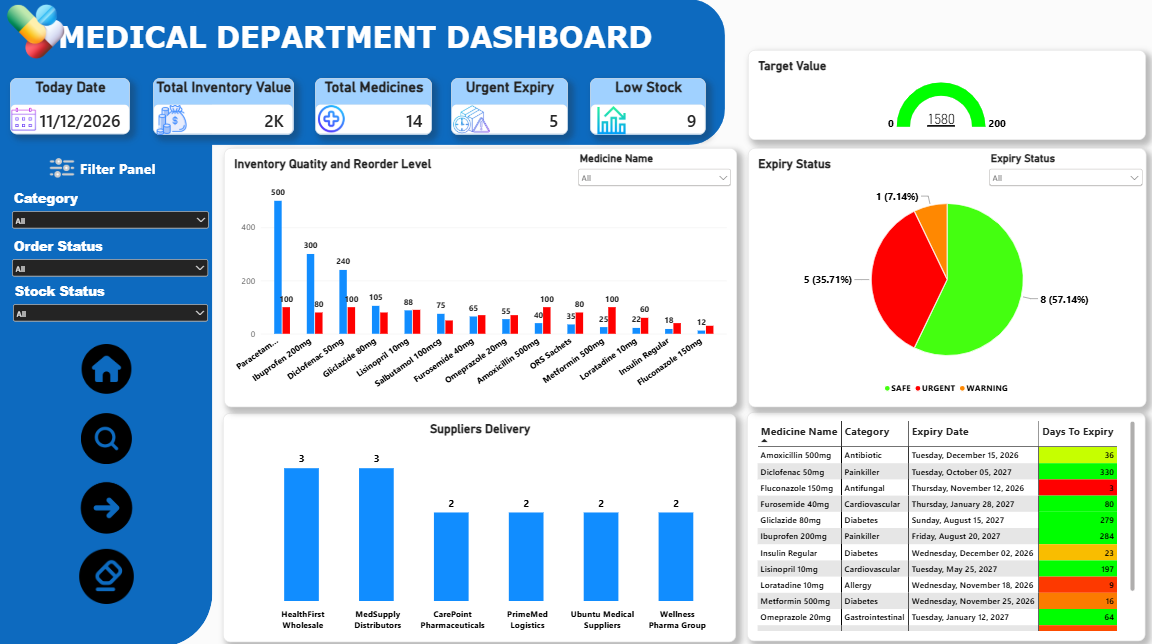

The page's visual inventory and layout, read from the dashboard file:
{"tool":"powerbi","page":{"name":"Medical Dep ","canvas":[1920,1080],"ordinal":0},"visuals":[{"type":"shape","box":[0,0,1208.3,243.3],"z":0},{"type":"shape","box":[0,0,354,1080],"z":1000},{"type":"textbox","title":"grtrtty","box":[96.6,33.5,1001.2,86.7],"z":2000},{"type":"pieChart","title":"Expiry Status","fields":{"Category":["Stock_Expiry_Table.expiry_status"],"Y":["CountNonNull(Inventory_Table.medicine_name)"]},"box":[1246.6,248.1,664.2,431.6],"z":3000,"group":"g1"},{"type":"slicer","fields":{"Values":["Inventory_Table.category"]},"box":[15,317.4,338.3,80],"z":3000},{"type":"clusteredColumnChart","title":"Inventory Quatity and Reorder Level","fields":{"Category":["Inventory_Table.medicine_name"],"Y":["Sum(Inventory_Table.Inventory Quatity)","Sum(Inventory_Table.reorder_level)"]},"box":[373.6,248.1,855.3,431.6],"z":4000,"group":"g2"},{"type":"clusteredColumnChart","title":"Suppliers Delivery","fields":{"Category":["Inventory_Table.supplier_name"],"Y":["CountNonNull(Inventory_Table.medicine_name)"]},"box":[372.5,689.8,855.3,382.3],"z":4000},{"type":"gauge","title":"Target Value","fields":{"MaxValue":["Inventory_Table.Target Value"],"MinValue":["Inventory_Table.Minimum Value"],"Y":["Sum(Inventory_Table.Inventory Quatity)"]},"box":[1246.2,84.9,662.8,149.9],"z":5000},{"type":"slicer","fields":{"Values":["Stock_Expiry_Table.expiry_status"]},"box":[1642.7,254.2,266,72],"z":5000,"group":"g1"},{"type":"slicer","fields":{"Values":["Inventory_Table.medicine_name"]},"box":[958.3,254.1,265.5,72.2],"z":6000,"group":"g2"},{"type":"tableEx","fields":{"Values":["Inventory_Table.medicine_name","Inventory_Table.category","Inventory_Table.expiry_date","Sum(Stock_Expiry_Table.days_to_expiry)"]},"box":[1244.8,688.8,664,382],"z":6000},{"type":"slicer","fields":{"Values":["Inventory_Table.order_status"]},"box":[15,397.4,336.7,75],"z":7000},{"type":"cardVisual","title":"Today Date","fields":{"Data":["Inventory_Table.Today Date"]},"box":[16,132,200,94],"z":8000},{"type":"cardVisual","title":"Total Inventory Value","fields":{"Data":["Inventory_Table.Total Inventory Value"]},"box":[254.2,132,234.5,94.6],"z":9000},{"type":"cardVisual","title":"Total Medicines","fields":{"Data":["Inventory_Table.Total Medicines"]},"box":[524.2,132,195.1,94.6],"z":10000},{"type":"cardVisual","title":"Urgent Expiry","fields":{"Data":["Inventory_Table.Urgent Expiry"]},"box":[750.9,132,195.1,94.6],"z":11000},{"type":"cardVisual","title":"Low Stock","fields":{"Data":["Inventory_Table.Low Stock"]},"box":[983.4,132,193.1,94.6],"z":12000},{"type":"slicer","fields":{"Values":["Stock_Reorder_Table.stock_status"]},"box":[16.7,472.4,335,76.7],"z":13000},{"type":"image","box":[0,6.7,118.3,95],"z":14000},{"type":"textbox","box":[133.3,265,140,33.3],"z":15000},{"type":"image","box":[73.3,260,60,43.3],"z":16000},{"type":"image","box":[124.6,574.3,104.7,83.1],"z":17000},{"type":"image","box":[124.6,689.9,104.7,84.9],"z":18000},{"type":"image","box":[124.6,796.5,104.7,102.9],"z":19000},{"type":"image","box":[18,174,42,54],"z":20000},{"type":"image","box":[255.6,176.7,61.1,50],"z":21000},{"type":"image","box":[521.1,172.2,61.1,55.6],"z":22000},{"type":"image","box":[753.3,170,65.6,61.1],"z":23000},{"type":"image","box":[991.1,177.8,55.6,46.7],"z":24000},{"type":"group","id":"g1","title":"Group 1","box":[1246.6,248.1,664.2,431.6],"z":25000},{"type":"group","id":"g2","title":"Group 2","box":[373.6,248.1,855.3,431.6],"z":26000},{"type":"image","box":[124.6,913.8,104.7,97.5],"z":27000}]}

Visuals, with their boxes in screenshot pixels (x1, y1, x2, y2), scaled from the page's 1920x1080 canvas onto the 1152x644 screenshot:
shape: [x1=0, y1=0, x2=725, y2=145]
shape: [x1=0, y1=0, x2=212, y2=643]
"grtrtty" textbox: [x1=58, y1=20, x2=659, y2=72]
"Expiry Status" pieChart: [x1=748, y1=148, x2=1146, y2=405]
slicer - Inventory_Table.category: [x1=9, y1=189, x2=212, y2=237]
"Inventory Quatity and Reorder Level" clusteredColumnChart: [x1=224, y1=148, x2=737, y2=405]
"Suppliers Delivery" clusteredColumnChart: [x1=224, y1=411, x2=737, y2=639]
"Target Value" gauge: [x1=748, y1=51, x2=1145, y2=140]
slicer - Stock_Expiry_Table.expiry_status: [x1=986, y1=152, x2=1145, y2=195]
slicer - Inventory_Table.medicine_name: [x1=575, y1=152, x2=734, y2=195]
tableEx - Inventory_Table.medicine_name x Inventory_Table.category: [x1=747, y1=411, x2=1145, y2=639]
slicer - Inventory_Table.order_status: [x1=9, y1=237, x2=211, y2=282]
"Today Date" cardVisual: [x1=10, y1=79, x2=130, y2=135]
"Total Inventory Value" cardVisual: [x1=153, y1=79, x2=293, y2=135]
"Total Medicines" cardVisual: [x1=315, y1=79, x2=432, y2=135]
"Urgent Expiry" cardVisual: [x1=451, y1=79, x2=568, y2=135]
"Low Stock" cardVisual: [x1=590, y1=79, x2=706, y2=135]
slicer - Stock_Reorder_Table.stock_status: [x1=10, y1=282, x2=211, y2=327]
image: [x1=0, y1=4, x2=71, y2=61]
textbox: [x1=80, y1=158, x2=164, y2=178]
image: [x1=44, y1=155, x2=80, y2=181]
image: [x1=75, y1=342, x2=138, y2=392]
image: [x1=75, y1=411, x2=138, y2=462]
image: [x1=75, y1=475, x2=138, y2=536]
image: [x1=11, y1=104, x2=36, y2=136]
image: [x1=153, y1=105, x2=190, y2=135]
image: [x1=313, y1=103, x2=349, y2=136]
image: [x1=452, y1=101, x2=491, y2=138]
image: [x1=595, y1=106, x2=628, y2=134]
"Group 1" group: [x1=748, y1=148, x2=1146, y2=405]
"Group 2" group: [x1=224, y1=148, x2=737, y2=405]
image: [x1=75, y1=545, x2=138, y2=603]
